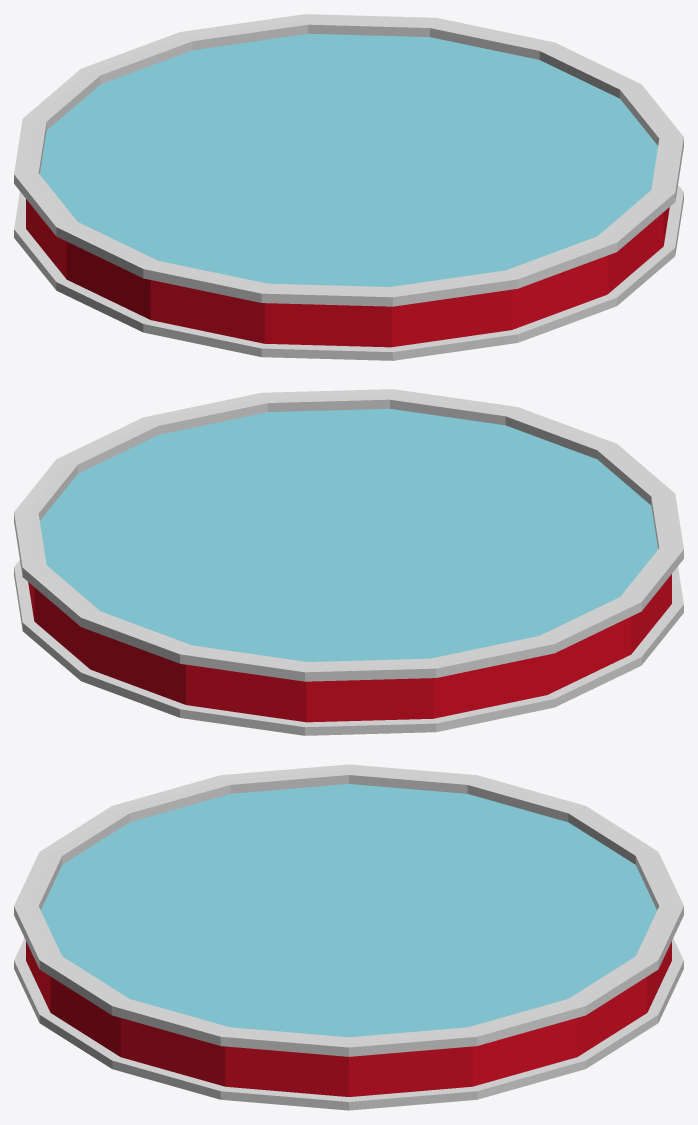
File: hoverBoard.fbx
The picture shows the model from 3 angles, top to bottom: view 1: azimuth 30°, elevation 25°; view 2: azimuth 150°, elevation 25°; view 3: azimuth 270°, elevation 25°; orthographic projection.
Parts seen in each view (by area): view 1: Cylinder; view 2: Cylinder; view 3: Cylinder.
Boxes of the visible parts, box(x1,y1,x2,y2) form: Cylinder: box(14, 14, 683, 360); Cylinder: box(14, 389, 683, 735); Cylinder: box(14, 764, 683, 1110).
Bounding box in the file's own units: 145 × 33.47 × 145.
